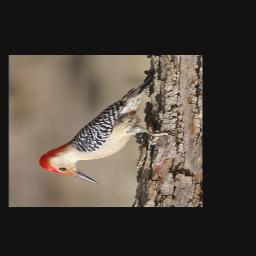Woodpecker: (35, 75, 177, 184)
